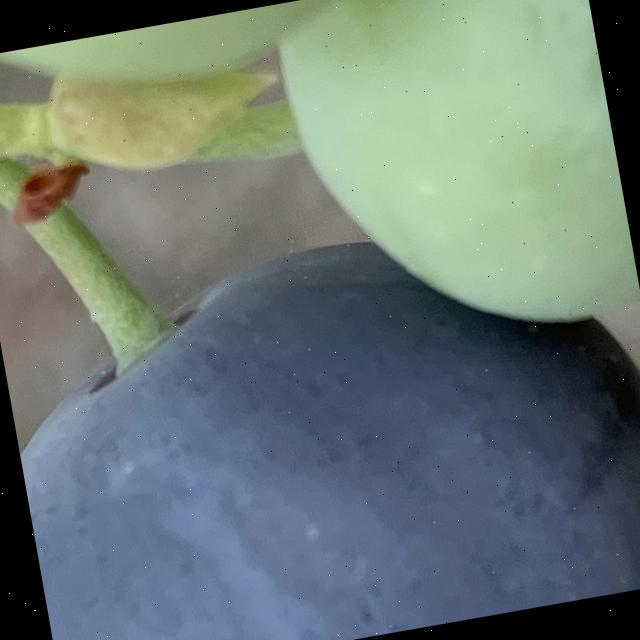Blueberries: (0, 186, 640, 640), (273, 0, 640, 360)
